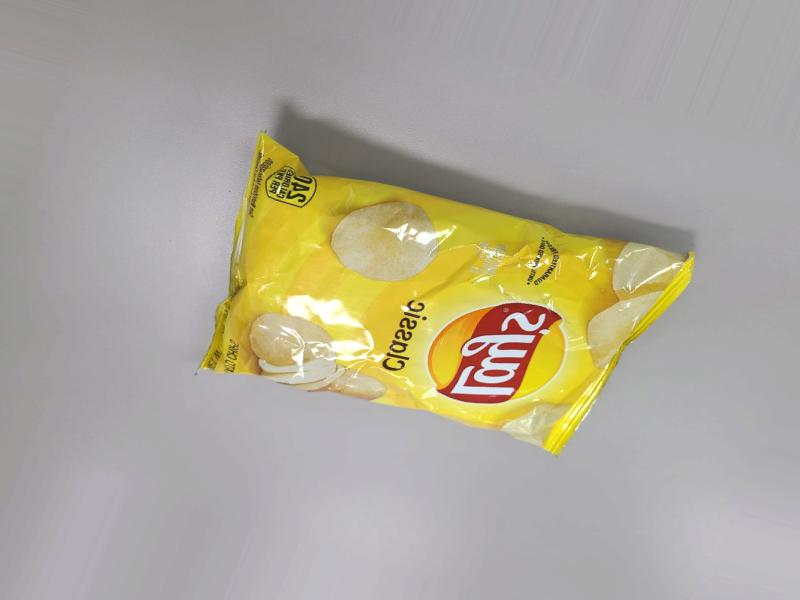lays: (227, 126, 711, 422)
